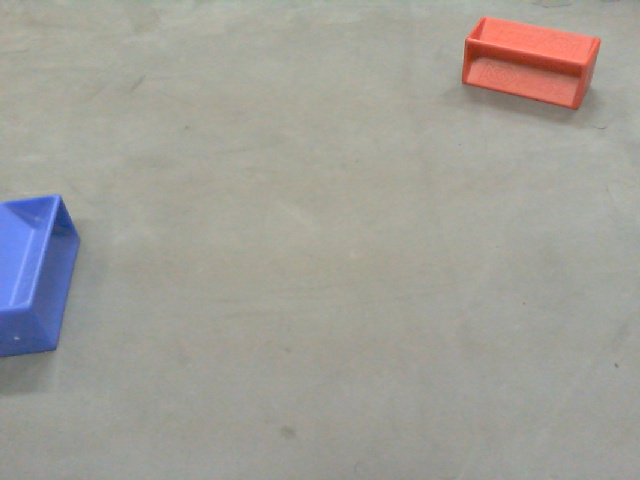BlueSample: (1, 185, 83, 357)
RedSample: (459, 12, 603, 115)
